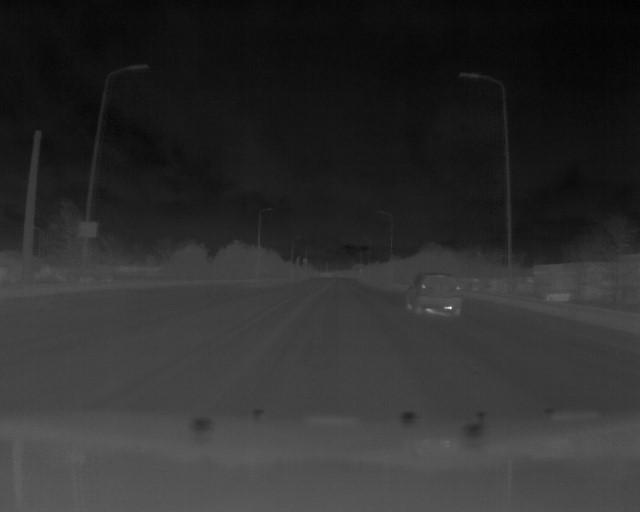car: (405, 271, 466, 320)
